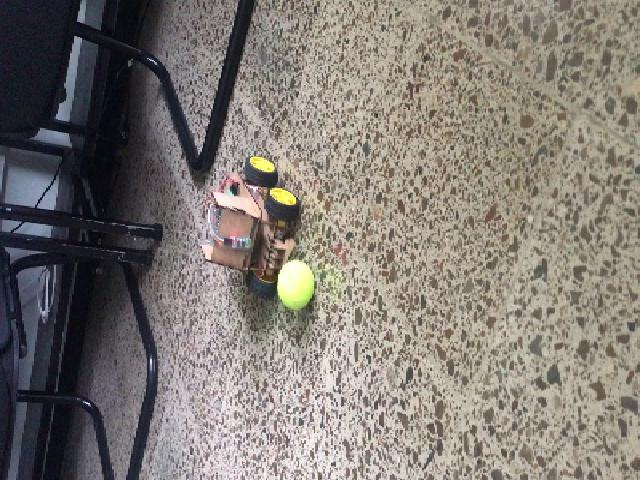Ball: (274, 259, 315, 312)
Robot: (197, 156, 299, 298)
